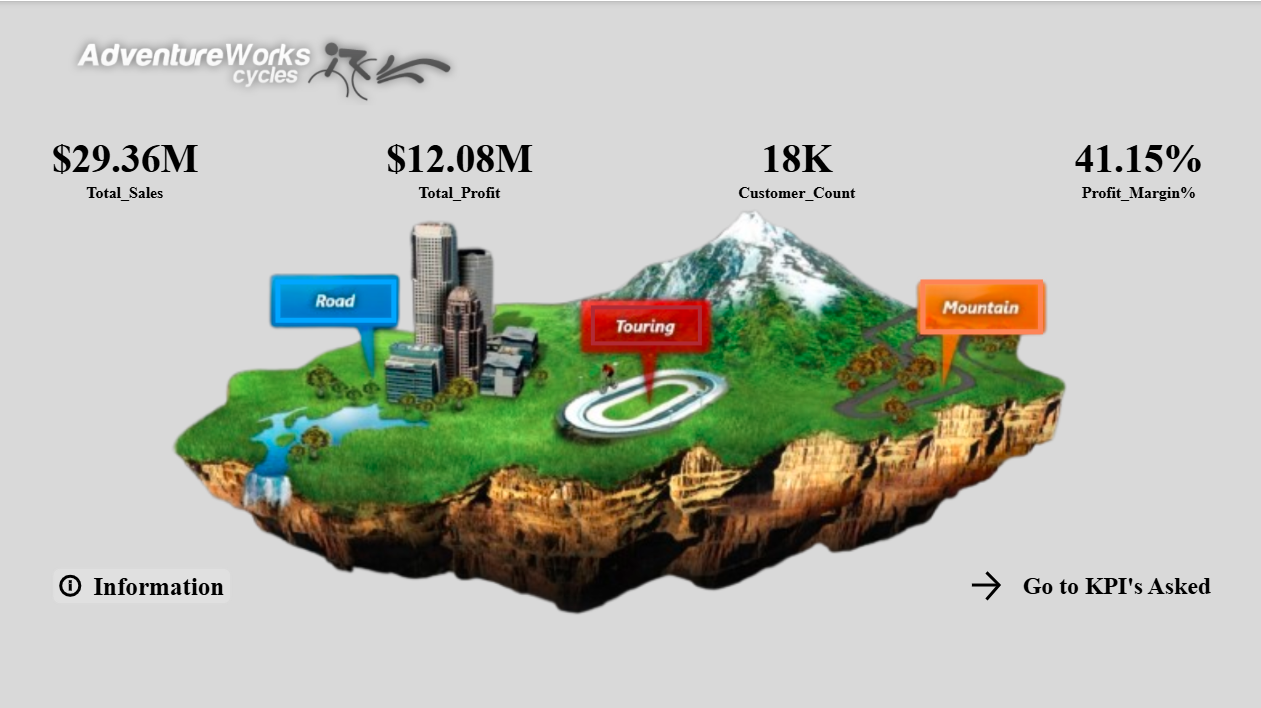

The dashboard page shown, as its layout file describes it:
{"tool":"powerbi","page":{"name":"Cover_Page","canvas":[1280,720],"ordinal":0},"visuals":[{"type":"card","fields":{"Values":["Sales Data.Total_Sales"]},"box":[20,102,218,128],"z":0},{"type":"card","fields":{"Values":["Sales Data.Total_Profit"]},"box":[358,102,218,128],"z":1000},{"type":"card","fields":{"Values":["Sales Data.Customer_Count"]},"box":[698,102,218,128],"z":2000},{"type":"card","fields":{"Values":["Sales Data.Profit_Margin%"]},"box":[1044,102,218,128],"z":3000},{"type":"actionButton","box":[590,298.3,130,58.3],"z":4000},{"type":"actionButton","box":[928.3,276.7,131.7,63.3],"z":5000},{"type":"actionButton","box":[276.7,276.7,130,51.7],"z":6000},{"type":"actionButton","box":[54.5,570.9,183.2,39.4],"z":7000},{"type":"actionButton","box":[978.2,570.9,251.4,39.4],"z":8000}]}

Visuals, with their boxes in screenshot pixels (x1, y1, x2, y2), scaled from the page's 1280x720 canvas onto the 1261x708 screenshot:
card - Sales Data.Total_Sales: Rect(20, 100, 234, 226)
card - Sales Data.Total_Profit: Rect(353, 100, 567, 226)
card - Sales Data.Customer_Count: Rect(688, 100, 902, 226)
card - Sales Data.Profit_Margin%: Rect(1029, 100, 1243, 226)
actionButton: Rect(581, 293, 709, 351)
actionButton: Rect(915, 272, 1044, 334)
actionButton: Rect(273, 272, 401, 323)
actionButton: Rect(54, 561, 234, 600)
actionButton: Rect(964, 561, 1211, 600)
